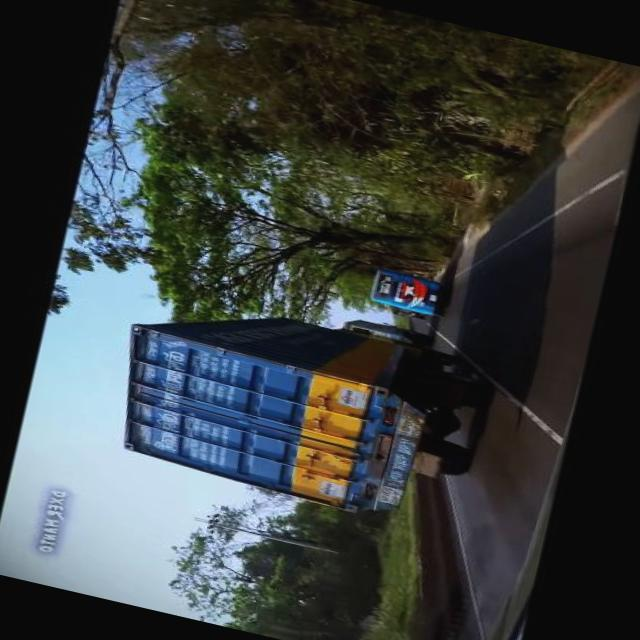bus: (367, 264, 453, 318)
truck: (98, 274, 500, 536)
